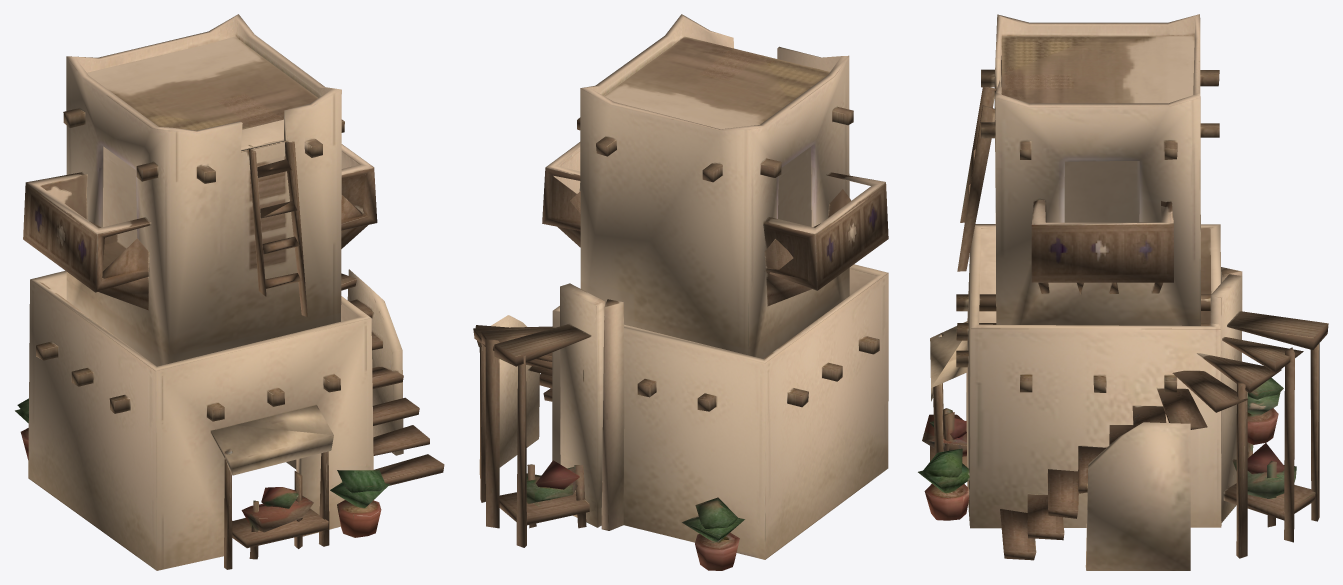
Rendered from DesertHouse2_texture.fbx.
The picture shows the model from 3 angles, left to right: view 1: azimuth 30°, elevation 25°; view 2: azimuth 150°, elevation 25°; view 3: azimuth 270°, elevation 25°; orthographic projection.
Parts seen in each view (by area): view 1: Mesh_0; view 2: Mesh_0; view 3: Mesh_0.
Boxes of the visible parts, box(x1,y1,x2,y2) form: Mesh_0: box(15, 14, 444, 570); Mesh_0: box(473, 14, 888, 570); Mesh_0: box(918, 14, 1328, 570).
Bounding box in the file's own units: 83.2 × 100 × 88.48.
1 material, 1 textured.
